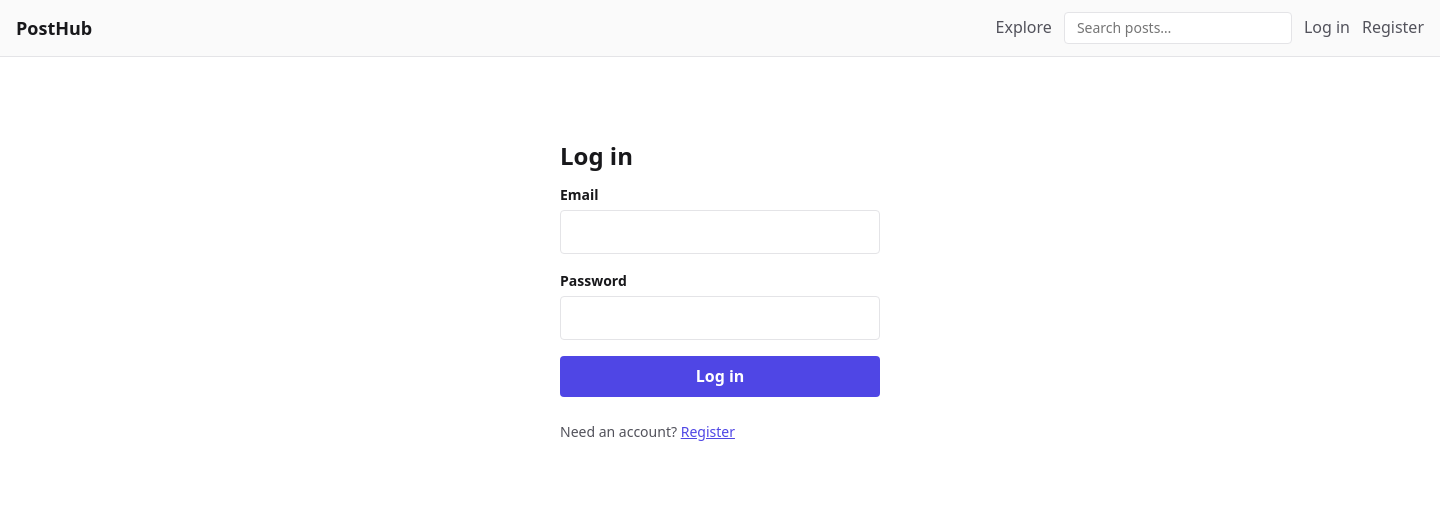
it: auth flows › shows a wrong-credentials 401 as a form-level error
Step 1. Type "andres@example.com" into the field labelled "Email" → (720, 232), box [560, 210, 880, 254]
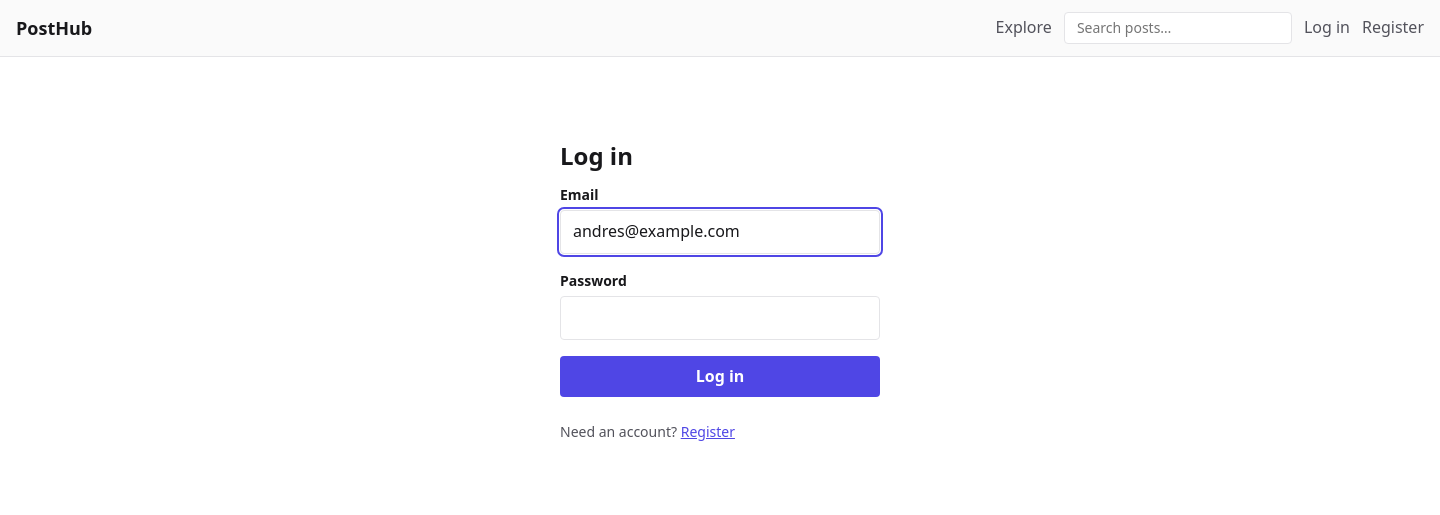
Step 2. Type "wrong-password" into the password field labelled "Password" → (720, 318), box [560, 296, 880, 340]
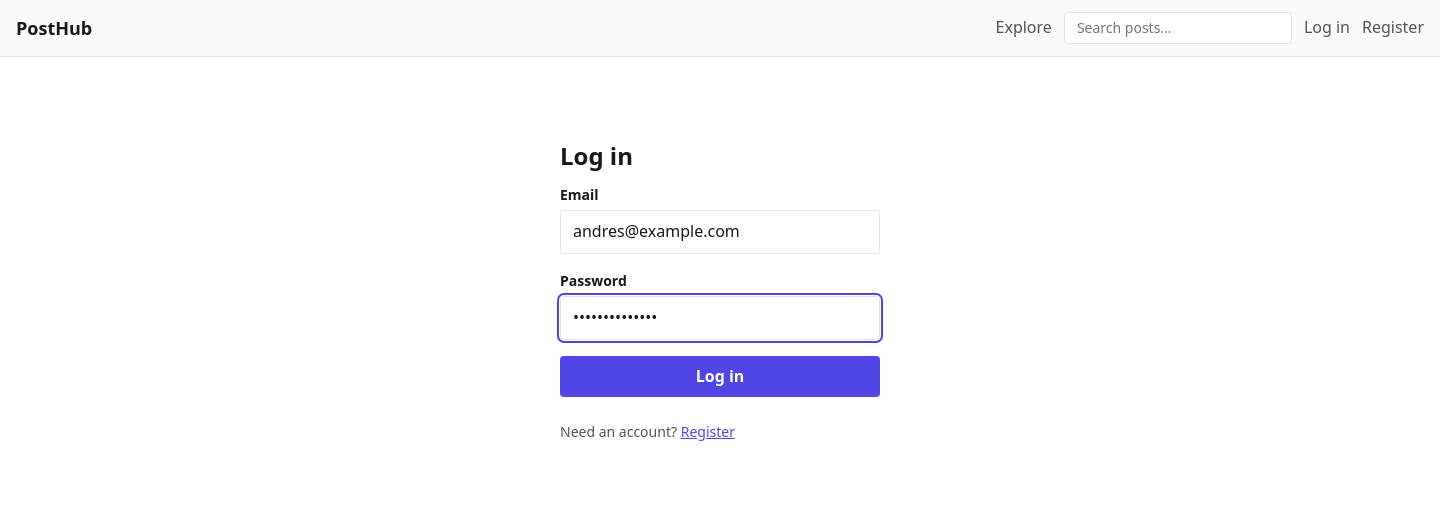
Step 3. Click the button "Log in" → (720, 377), box [560, 356, 880, 397]
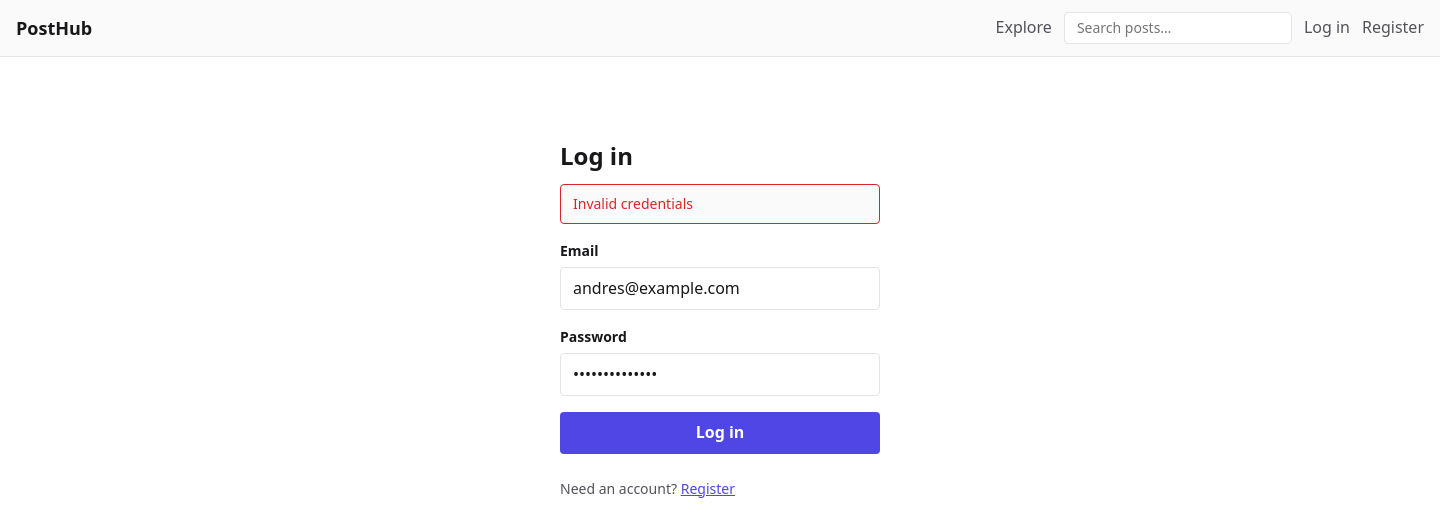
Check: the heading "Log in" is shown, box [560, 139, 633, 172]
Check: the message reads "Invalid credentials", box [573, 194, 693, 213]
